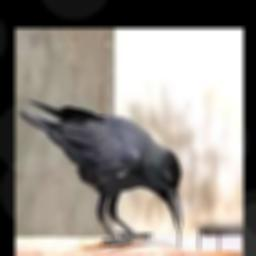Crow: (17, 99, 182, 247)
